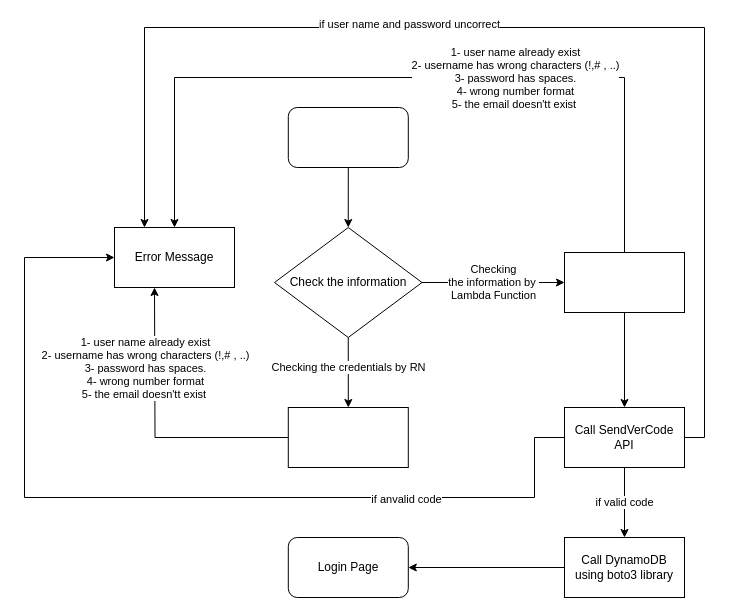
This 730x615 diagram has some shape labels left out. The centre of each missing label's shape, as x and y in pixels:
"Call HardCoded RN function." goes at (347,437).
"Call login API" goes at (624,282).
"User signup to system" goes at (347,137).
